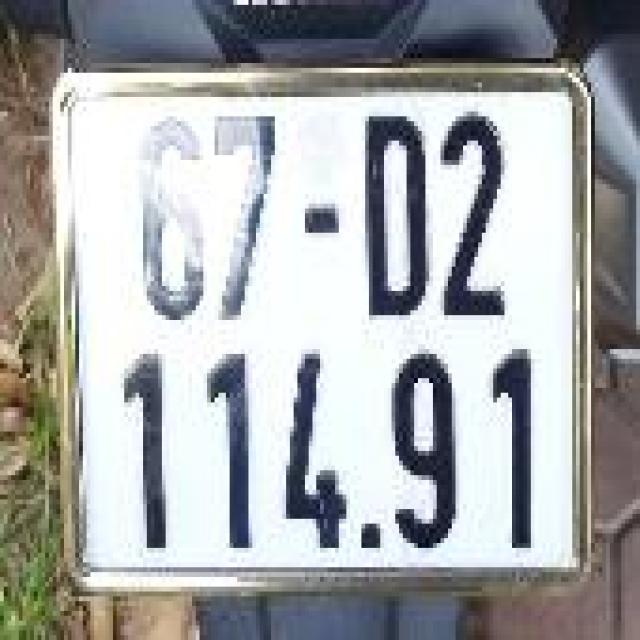1: (472, 332, 548, 555), (109, 337, 181, 565), (198, 342, 266, 560)
2: (442, 97, 514, 339)
4: (277, 335, 352, 567)
6: (132, 107, 211, 325)
7: (204, 87, 282, 330)
9: (378, 335, 458, 543)
D: (341, 97, 435, 335)
